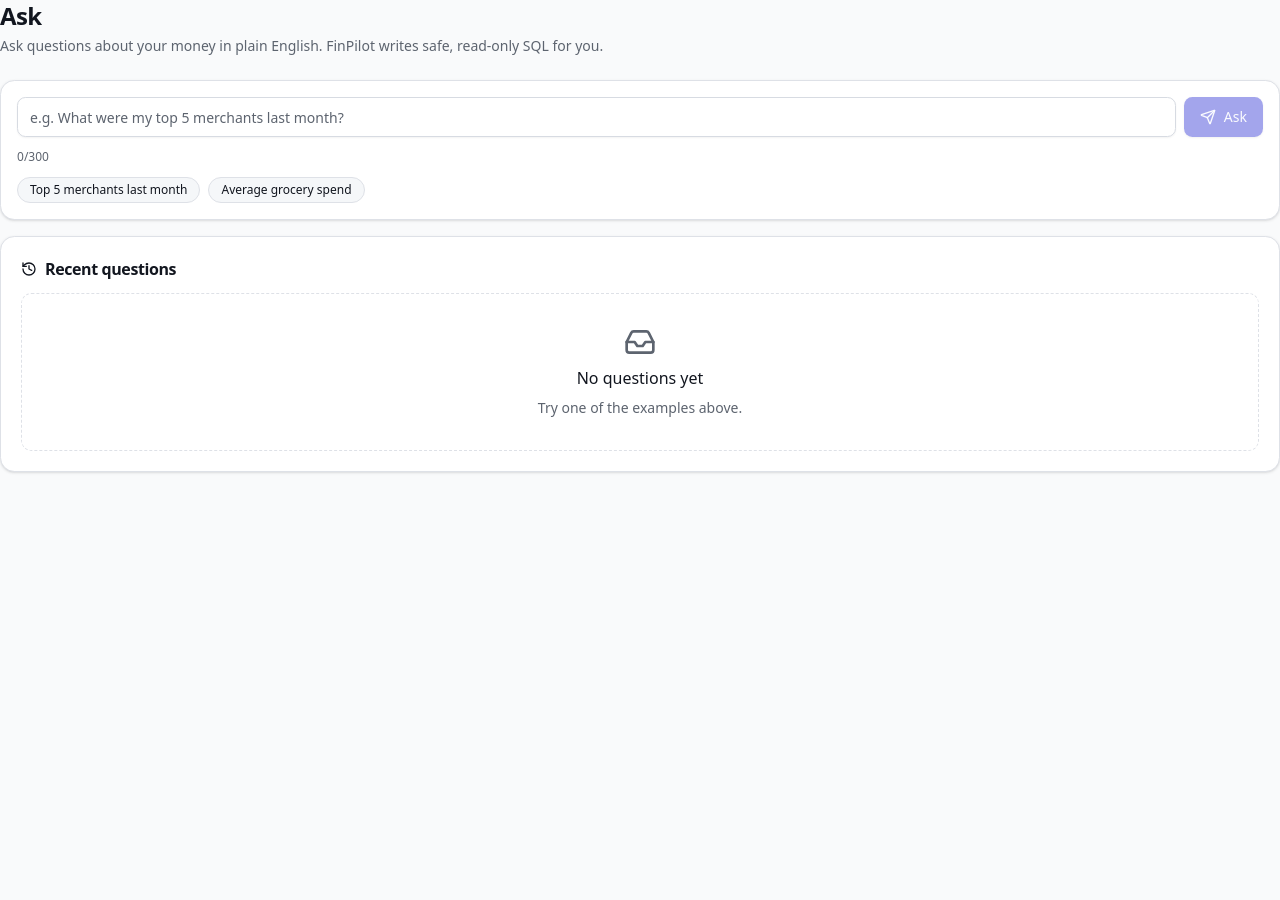
Scenario: <AskPage> › asks via an example chip and shows the result
Click the button "Top 5 merchants last month": (109,190) [17, 177, 200, 203]
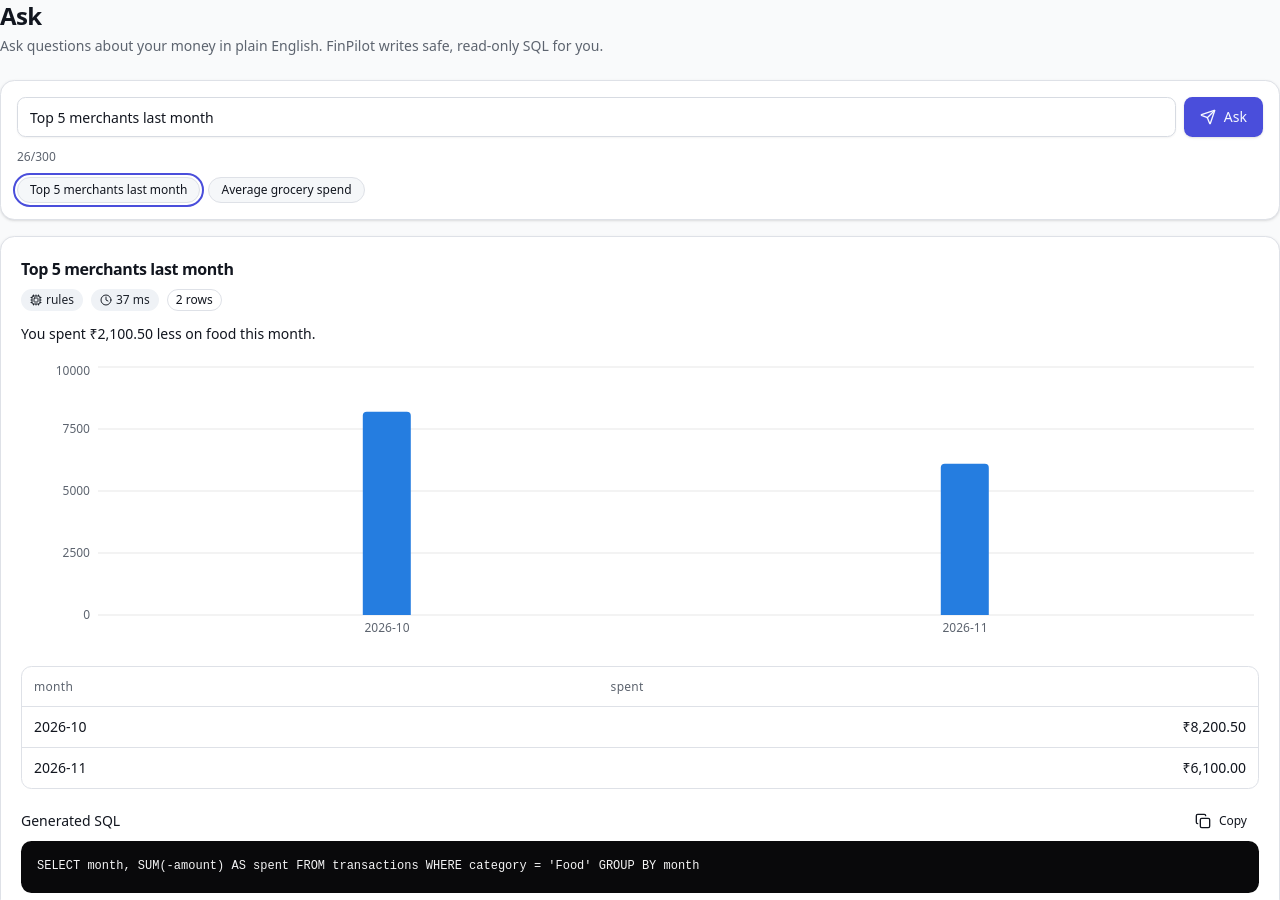
Expected: the element with test id "assistant-sql" is shown, [21, 841, 1259, 893]
Expected: the field with test id "ask-input" holds "Top 5 merchants last month", [17, 97, 1176, 137]
